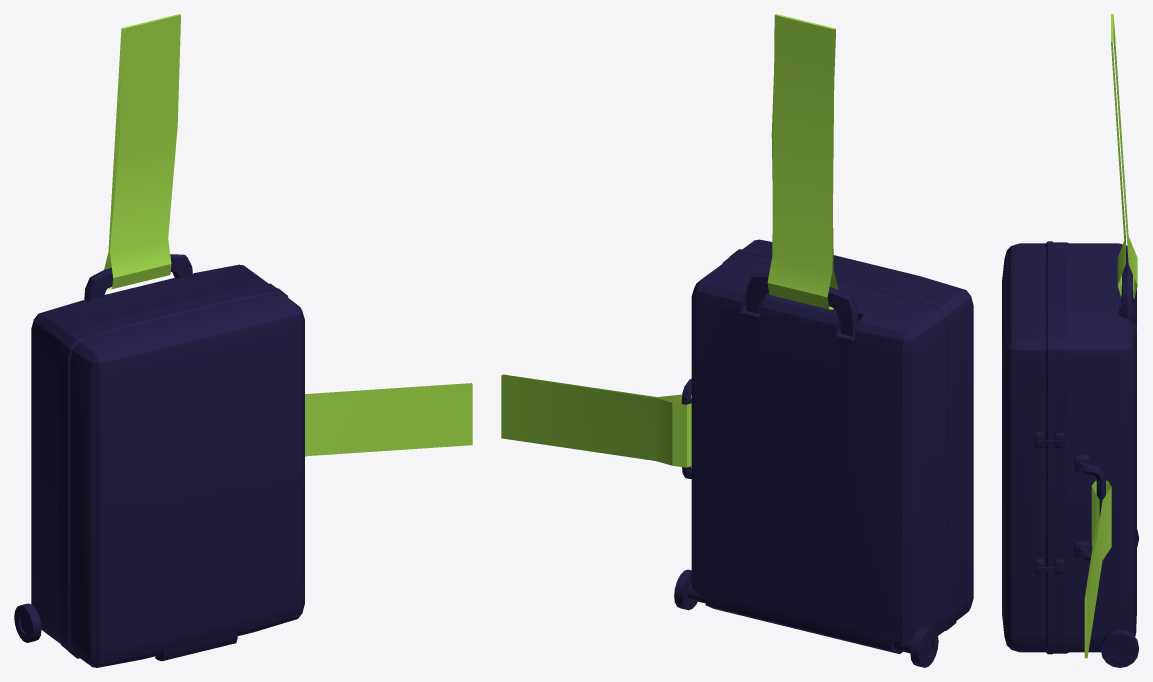
File: Luggage_1.fbx
3 views of the same model, side by side, from view 1: azimuth 30°, elevation 25°; view 2: azimuth 150°, elevation 25°; view 3: azimuth 270°, elevation 25° (orthographic). The views are drawn at different scales.
Parts seen in each view (by area): view 1: Luggage; view 2: Luggage; view 3: Luggage.
Part boxes in pixels (left/top/right/bottom): Luggage: left=14, top=14, right=472, bottom=667; Luggage: left=501, top=14, right=973, bottom=667; Luggage: left=1002, top=14, right=1138, bottom=667.
Bounding box in the file's own units: 32.9 × 118 × 155.
